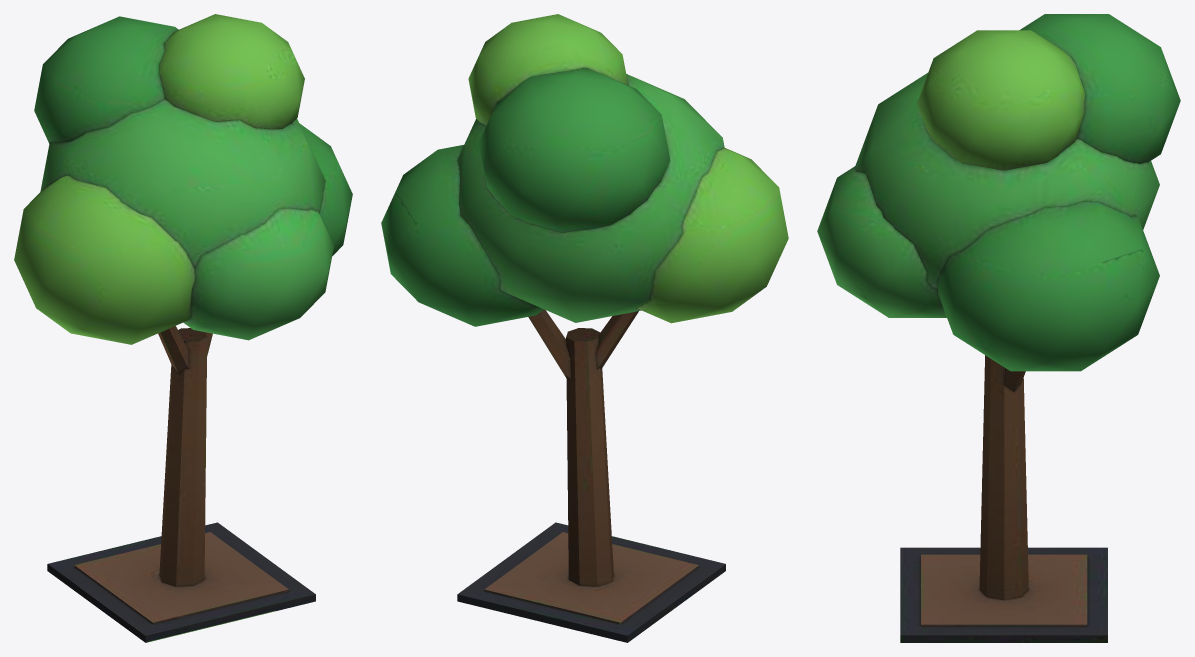
File: arbol_ciudad.glb
3 renders of one model, left to right at view 1: azimuth 30°, elevation 25°; view 2: azimuth 150°, elevation 25°; view 3: azimuth 270°, elevation 25°, orthographic. The views are drawn at different scales.
Visible parts, largest first — view 1: arbol_ciudad; view 2: arbol_ciudad; view 3: arbol_ciudad.
Part boxes in pixels (left/top/right/bottom): arbol_ciudad: left=14, top=14, right=352, bottom=642; arbol_ciudad: left=381, top=14, right=788, bottom=642; arbol_ciudad: left=817, top=14, right=1180, bottom=642.
Bounding box in the file's own units: 2 × 3.11 × 1.75.
Materials: 1 (1 with a texture image).
